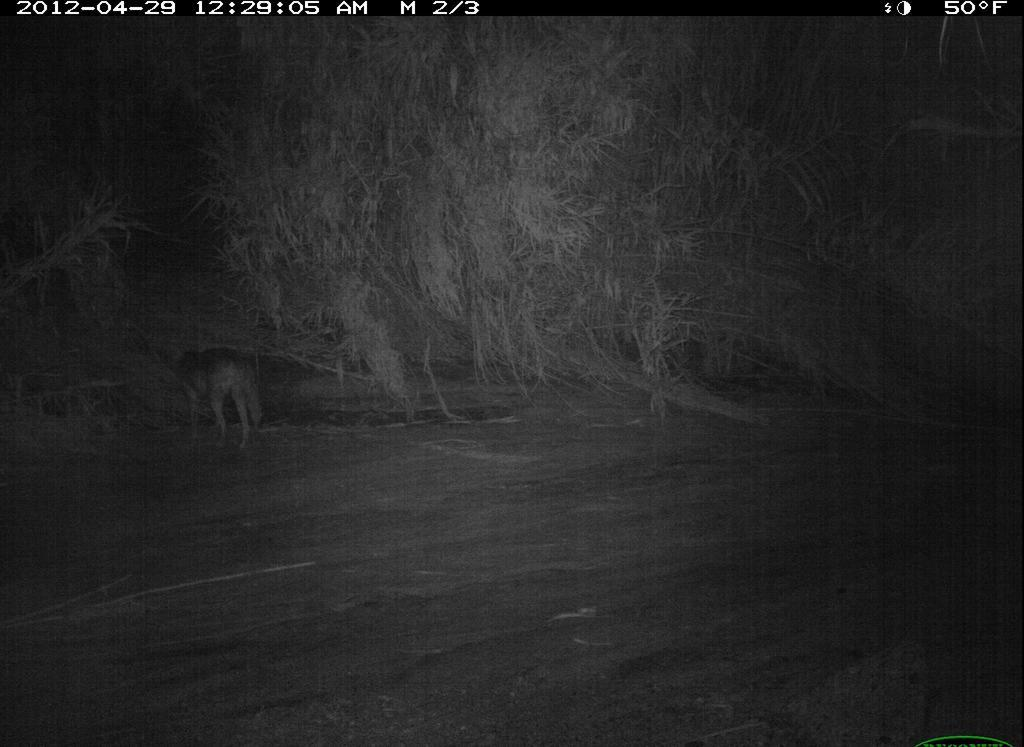coyote: (161, 340, 268, 452)
